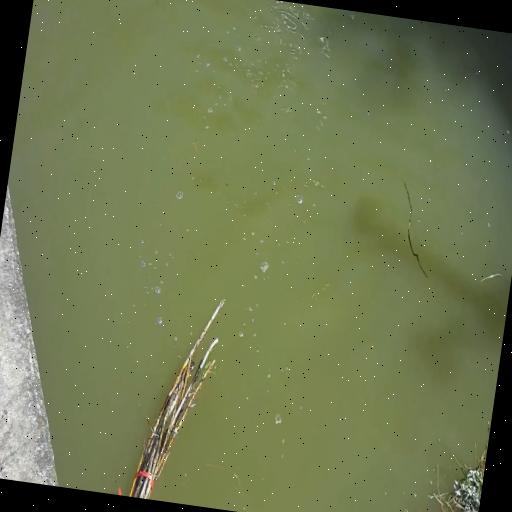twig: (120, 288, 230, 506), (421, 423, 489, 512)
